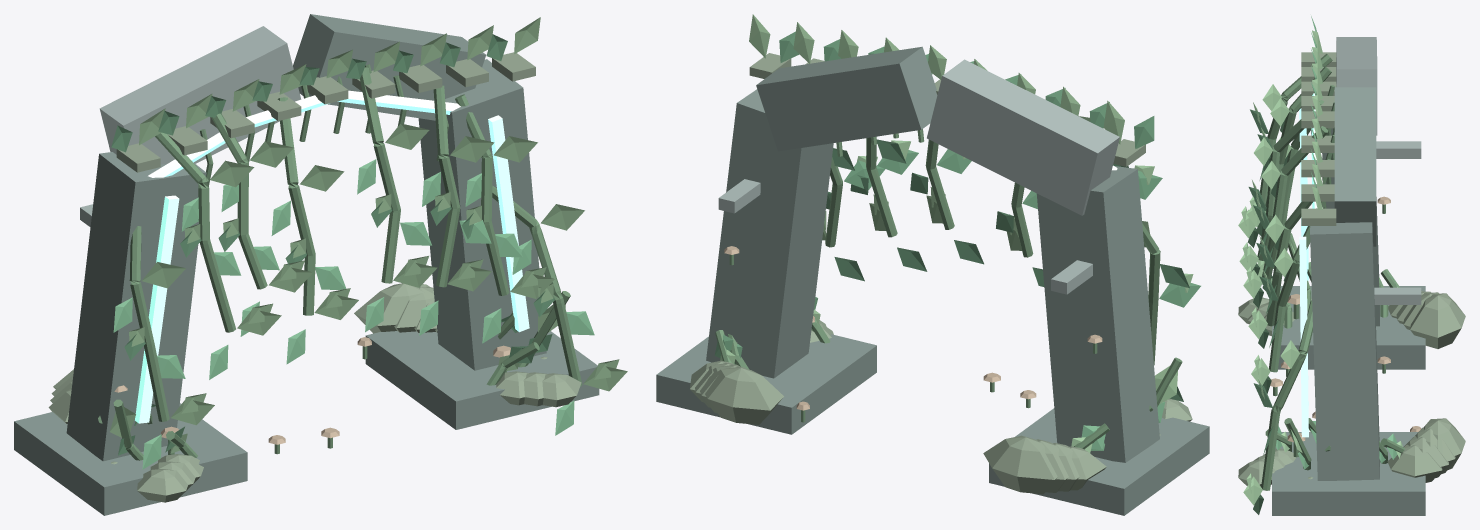
The model's file is verdant.glb.
The picture shows the model from 3 angles, left to right: view 1: azimuth 30°, elevation 25°; view 2: azimuth 150°, elevation 25°; view 3: azimuth 270°, elevation 25°; orthographic projection. The views are drawn at different scales.
Parts seen in each view (by area): view 1: VERDANT / Forgotten hanging garden arch; view 2: VERDANT / Forgotten hanging garden arch; view 3: VERDANT / Forgotten hanging garden arch.
Boxes of the visible parts, x1,y1,x2,y2 form: VERDANT / Forgotten hanging garden arch: [14, 14, 627, 515]; VERDANT / Forgotten hanging garden arch: [656, 14, 1209, 515]; VERDANT / Forgotten hanging garden arch: [1238, 16, 1465, 515].
Size of the model in its own units: 7.78 by 6.03 by 3.56.
